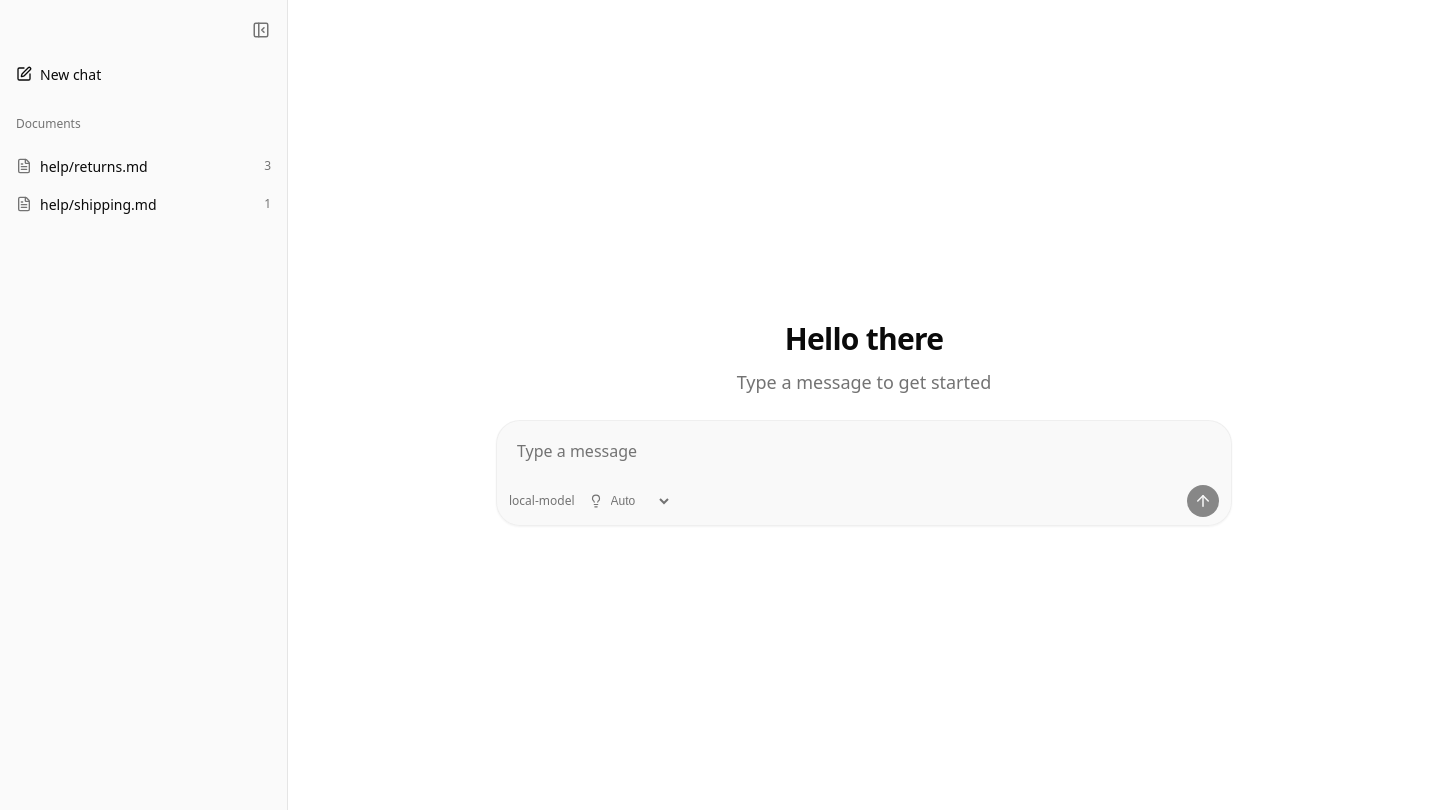
a new chat starts over
This screenshot has width=1440, height=810.
Type "How long do refunds take?" into the text box labelled "message" at (864, 457), box [509,433,1219,481]
Then press Enter
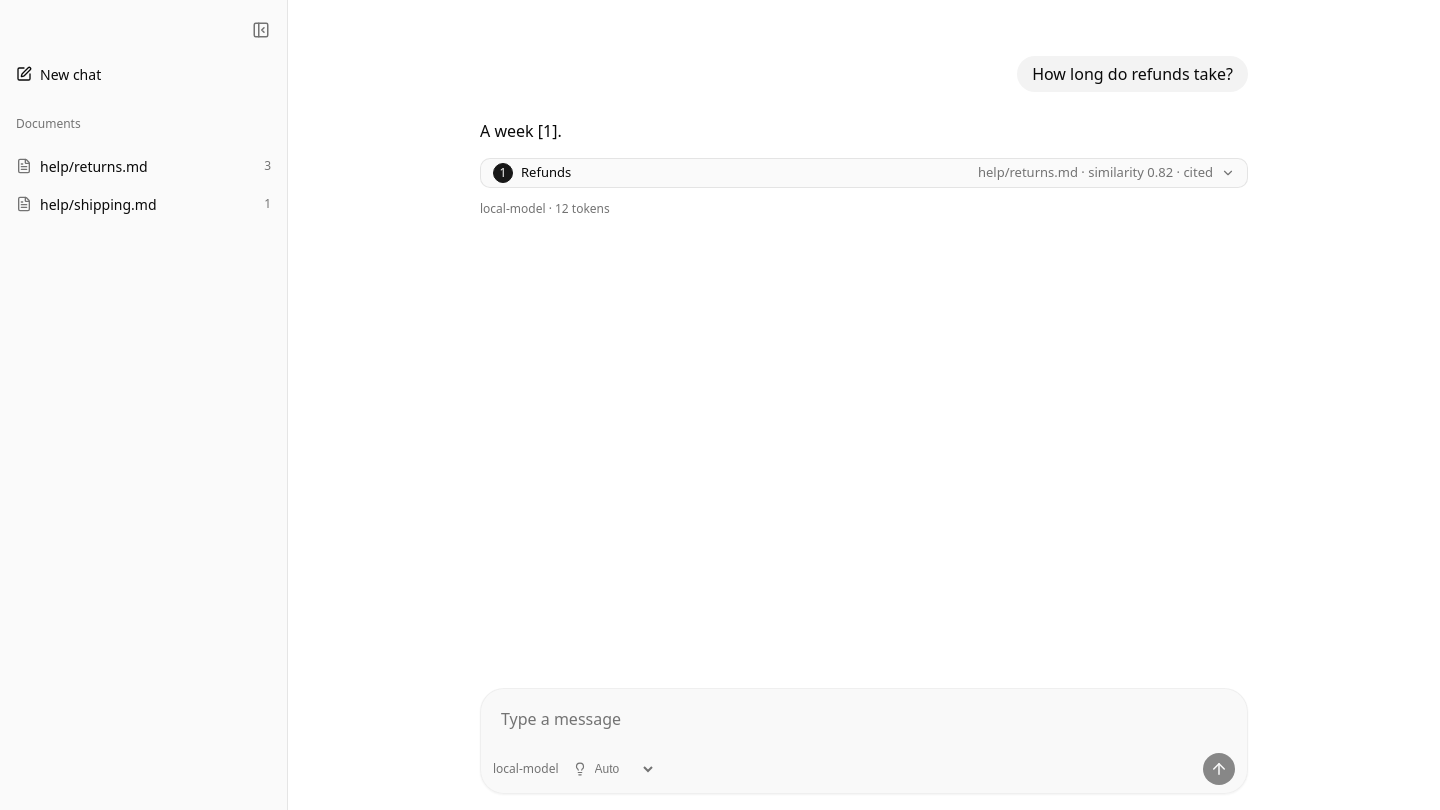
Expected: the button named "Send" is shown, [1203,753,1235,785]
Click the button "New chat" at (71, 74), box [8,56,279,92]
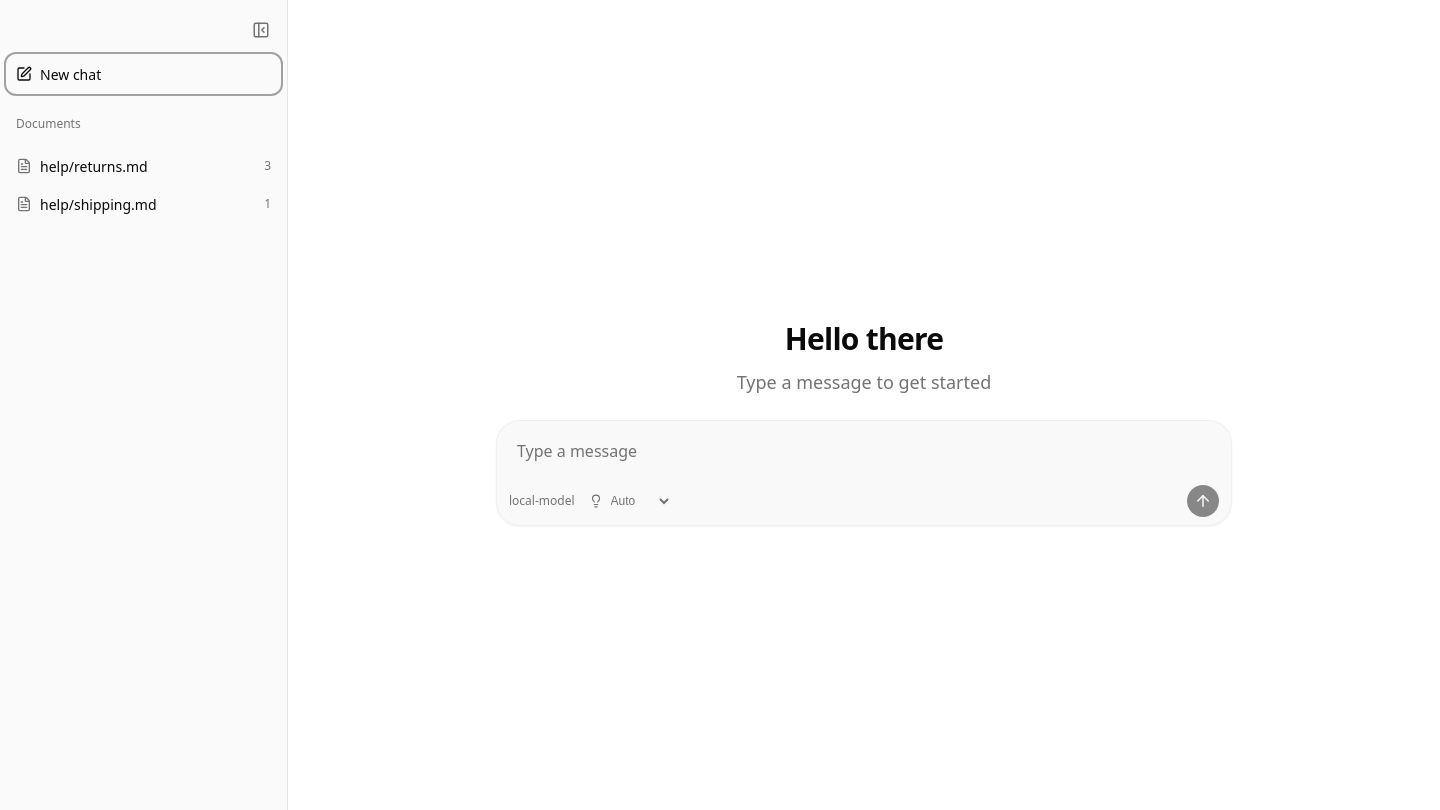
Now the list "Conversation" is gone
